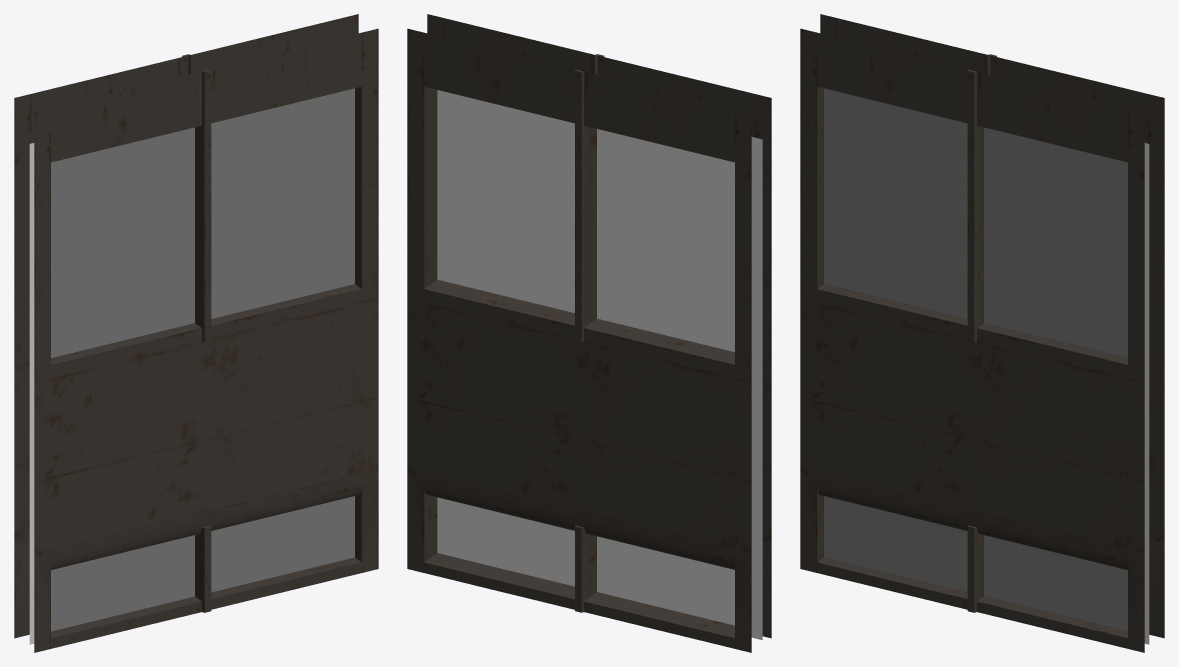
The model's file is metal_window_half.glb.
The picture shows the model from 3 angles, left to right: view 1: azimuth 30°, elevation 25°; view 2: azimuth 150°, elevation 25°; view 3: azimuth 330°, elevation 25°; orthographic projection.
Visible parts, largest first — view 1: Metal_Window_Half; view 2: Metal_Window_Half; view 3: Metal_Window_Half.
Part boxes in pixels (box(x1,y1,x2,y2)): Metal_Window_Half: box(14, 14, 378, 652); Metal_Window_Half: box(407, 14, 771, 652); Metal_Window_Half: box(800, 14, 1164, 652).
Size of the model in its own units: 2 by 3 by 0.2286.
Materials: 3 (1 with a texture image).
